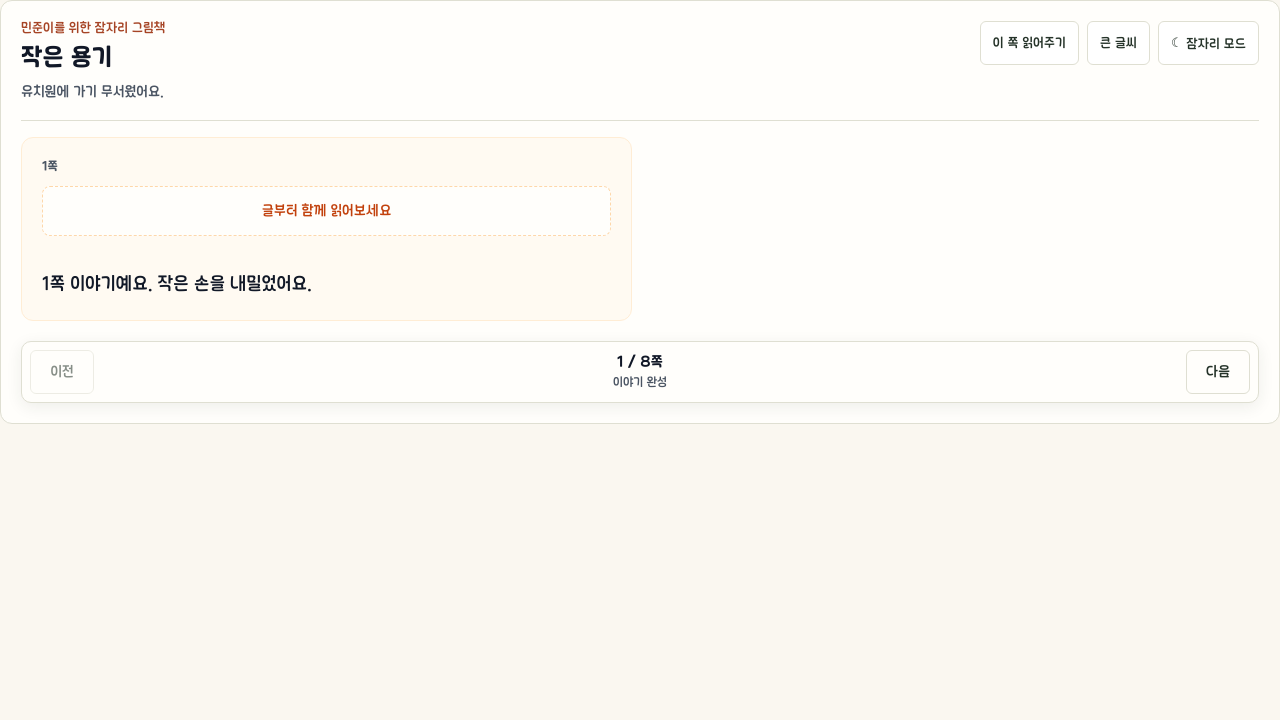
it: reader › shows dismissible feedback after downloading from the last page
Press End in the element named "그림책 읽기", box left=0, top=0, right=1279, bottom=424
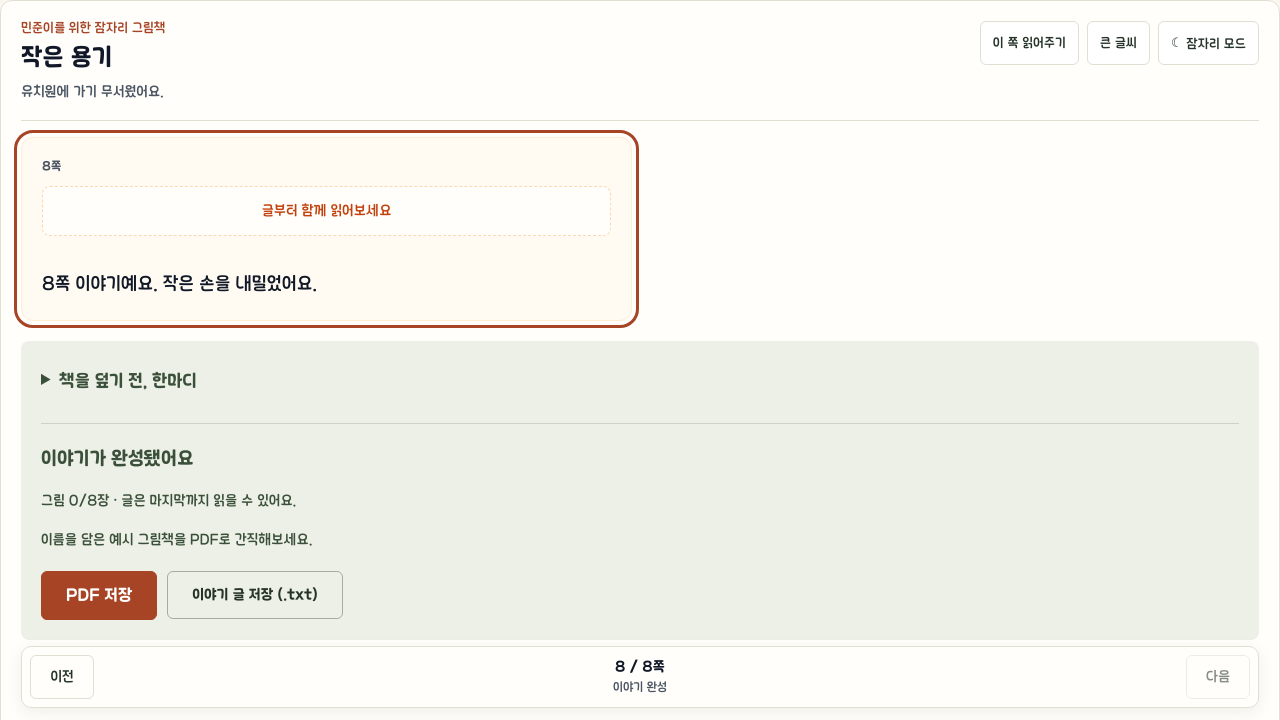
Click the button "이야기 글 저장 (.txt)": coordinates (255, 595) left=167, top=571, right=343, bottom=619
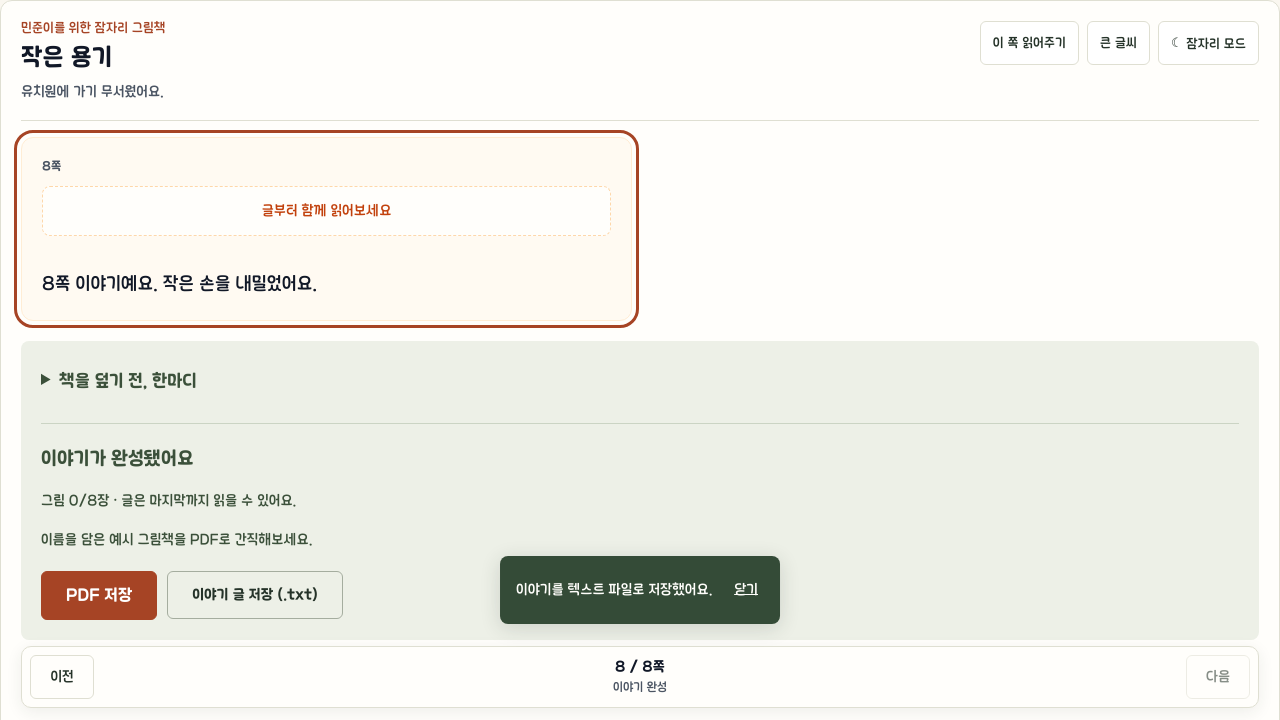
Expected: the message reads "이야기를 텍스트 파일로 저장했어요.", left=516, top=582, right=712, bottom=598
Click the button with aria-label "알림 닫기": coordinates (746, 590) left=728, top=568, right=764, bottom=612
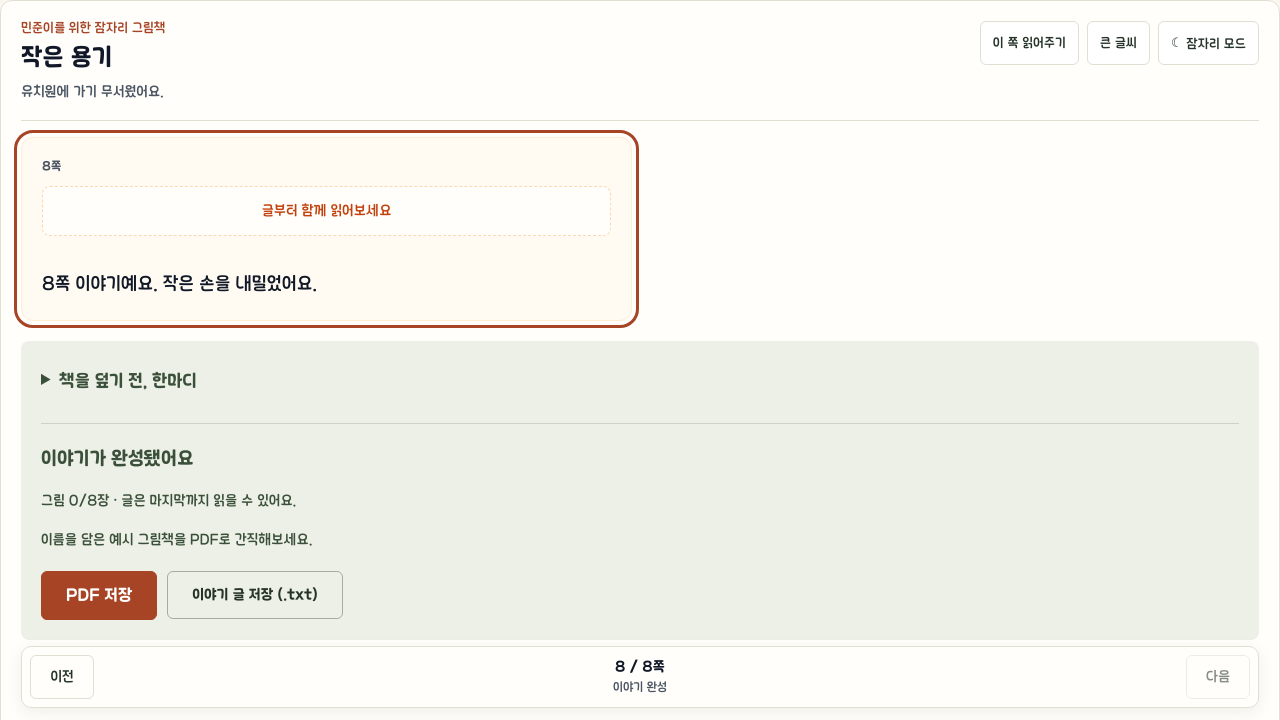
Expected: the text "이야기를 텍스트 파일로 저장했어요." is gone
